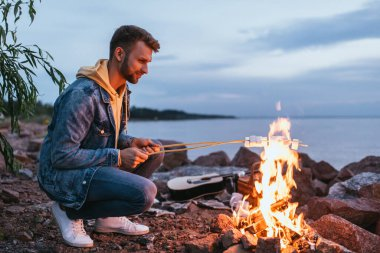fire: (253, 118, 300, 236)
